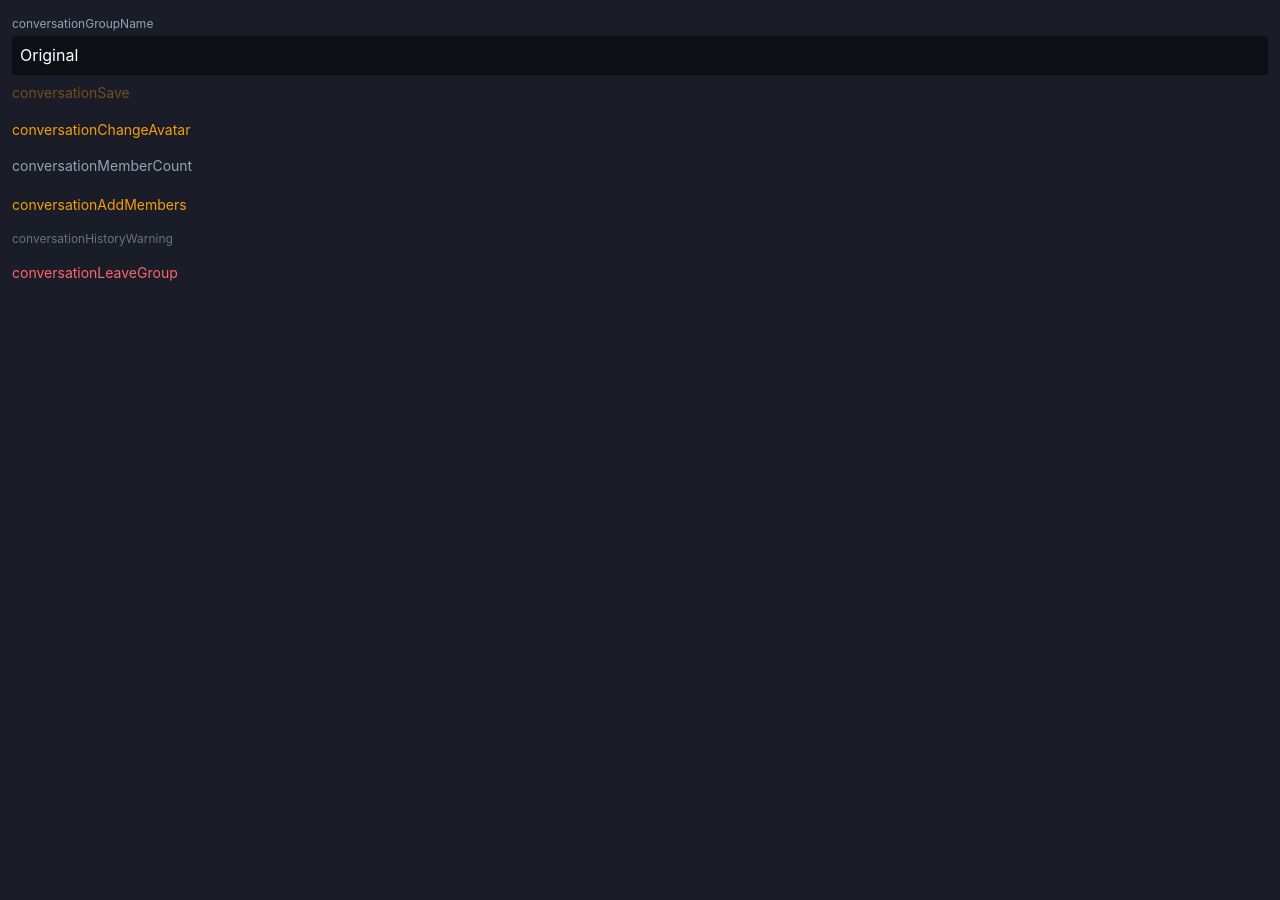
Test: reports nested dialogs so Escape does not dismiss the parent panel
The image size is (1280, 900).
Click the button "conversationAddMembers": click(99, 205) [12,195,187,215]
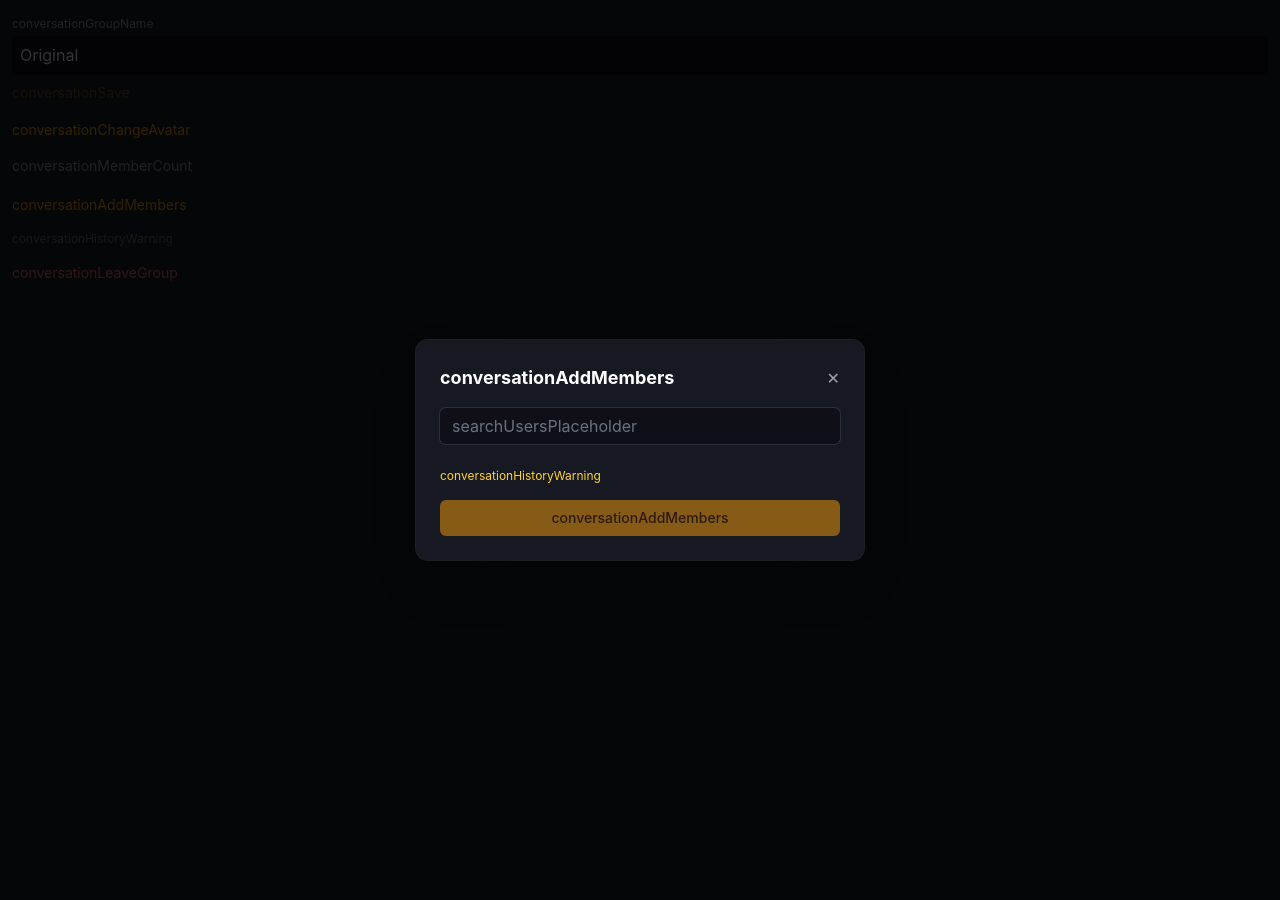
Result: the dialog is shown at [416,340,864,560]
Press Escape
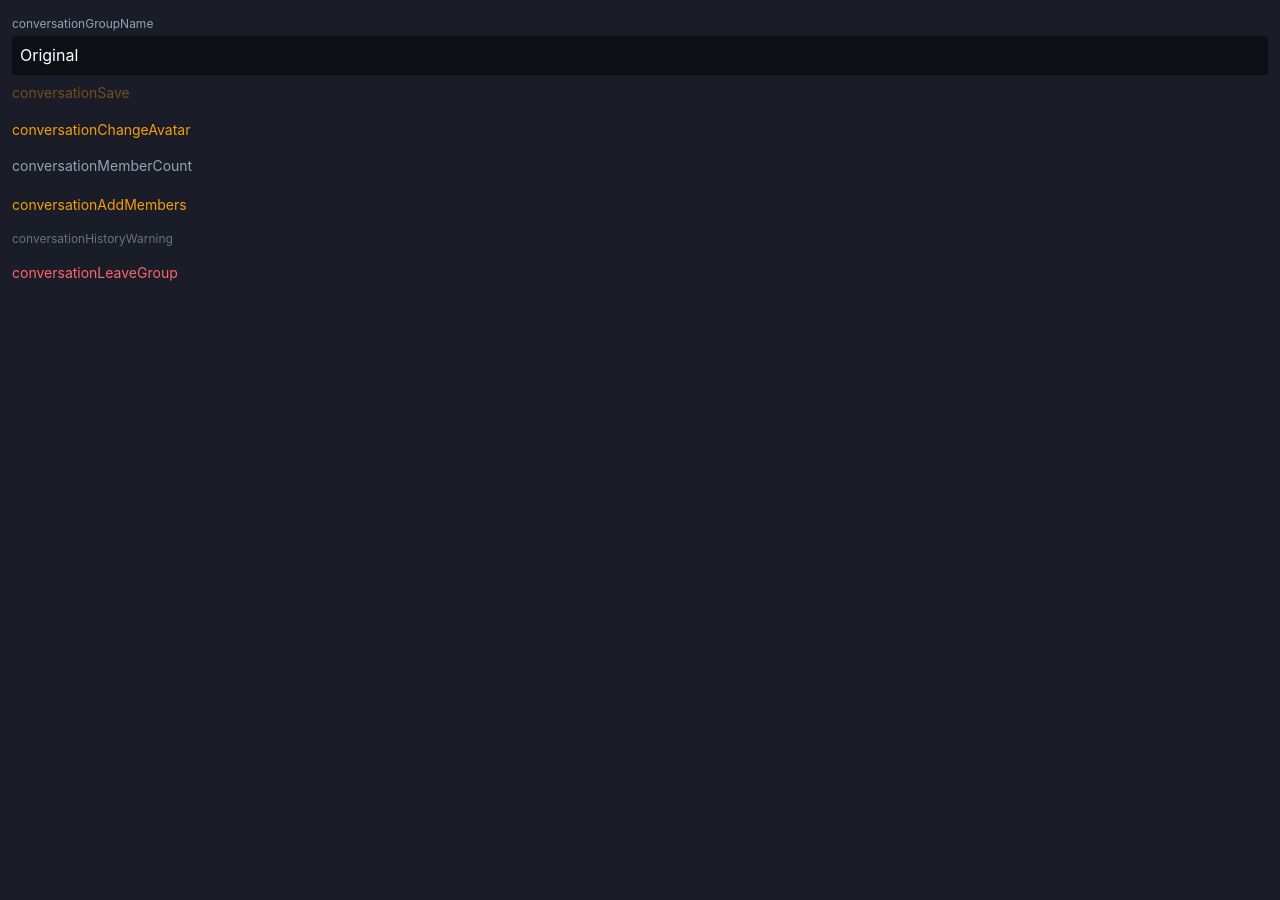
Result: the dialog is gone
